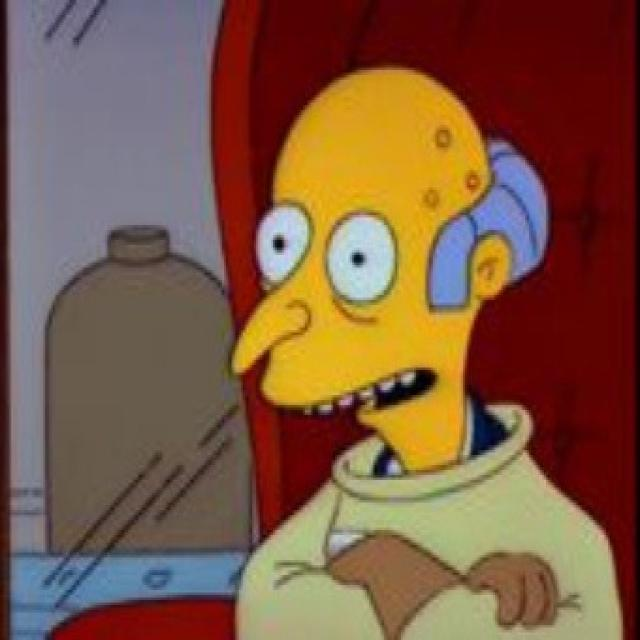Charles Montgomery Burns: (230, 65, 552, 475)
